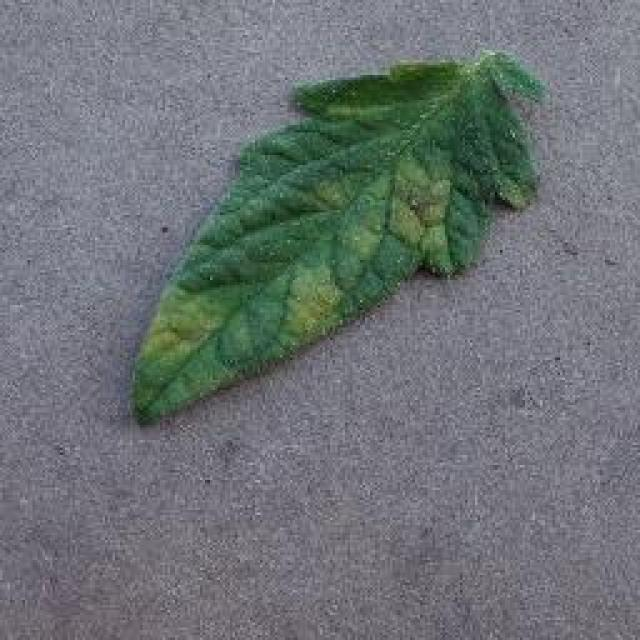Tomato___Leaf_Mold: (132, 52, 542, 420)
